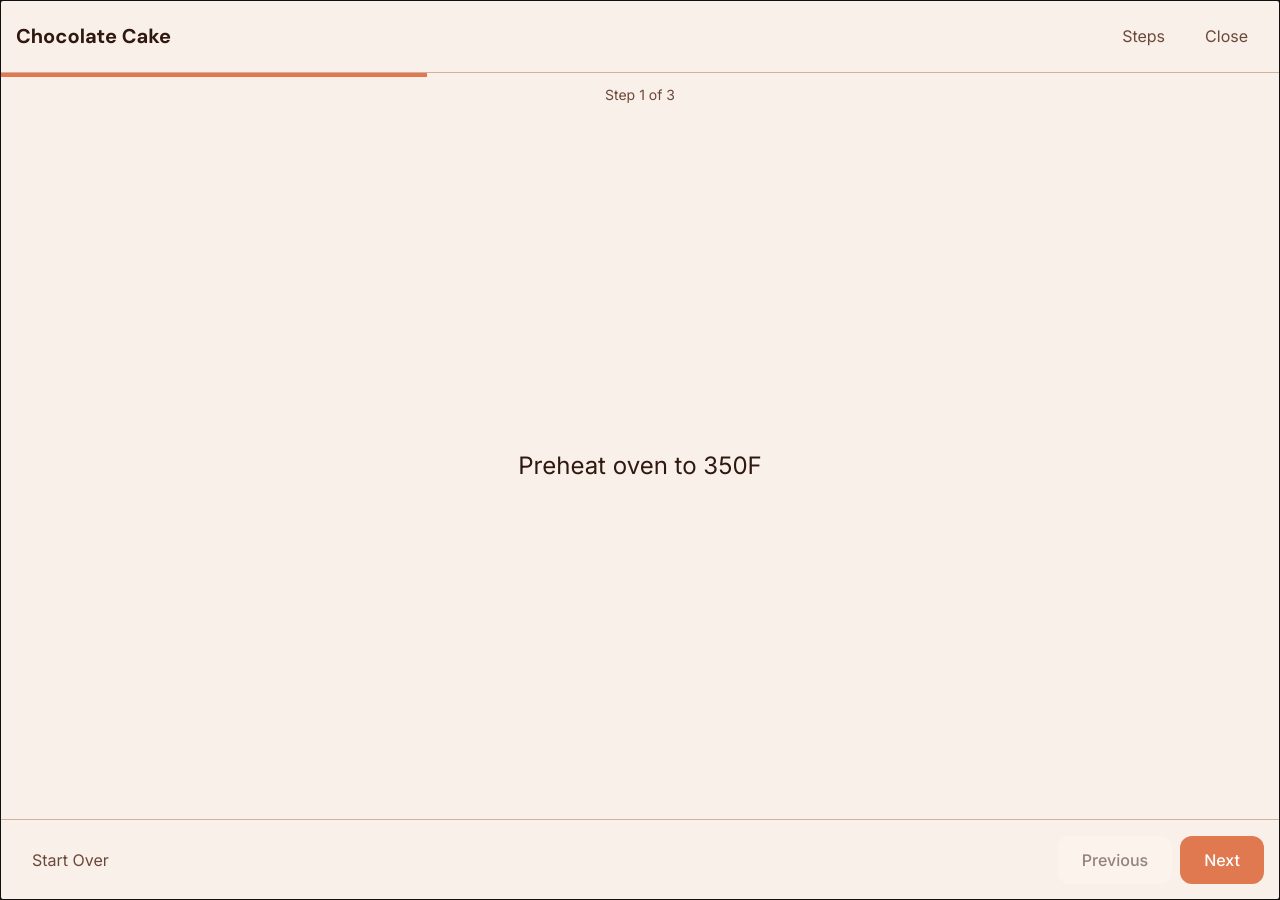
Test case: CookingModeOverlay › should show correct step indicator
Expected: the text "Step 1 of 3" is shown, [605,86,675,103]
Click the button "Next" at (1222, 860), box [1180,836,1264,884]
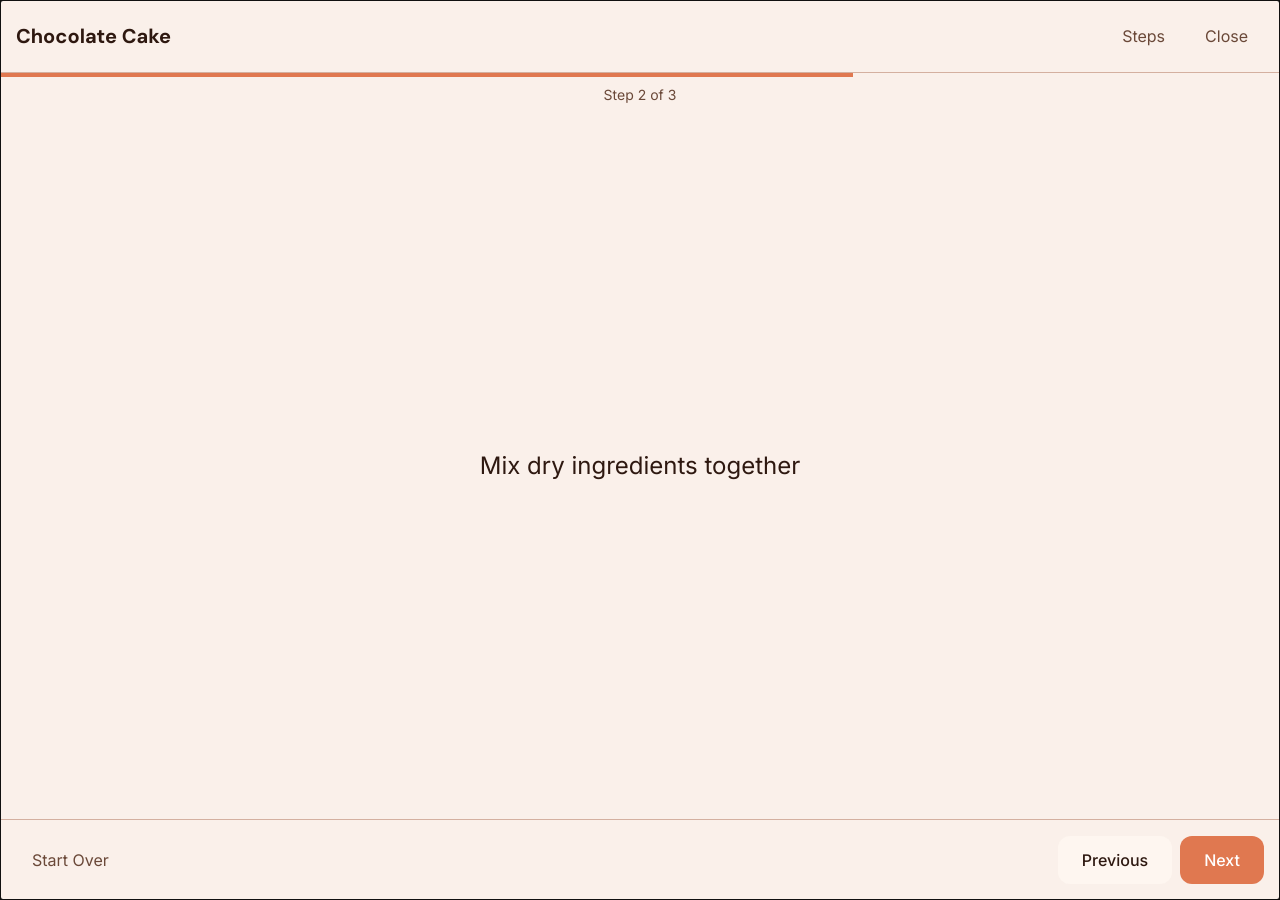
Expected: the text "Step 2 of 3" is shown, [604,86,676,103]
